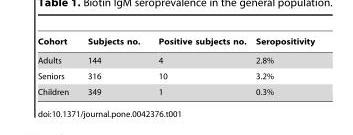table: (36, 36, 314, 96)
table column: (148, 36, 250, 96), (77, 36, 148, 96), (250, 36, 314, 96), (36, 36, 77, 96)
table column header: (36, 36, 314, 50)
table row: (36, 50, 314, 68), (36, 68, 314, 83), (36, 36, 314, 50), (36, 83, 314, 96)
